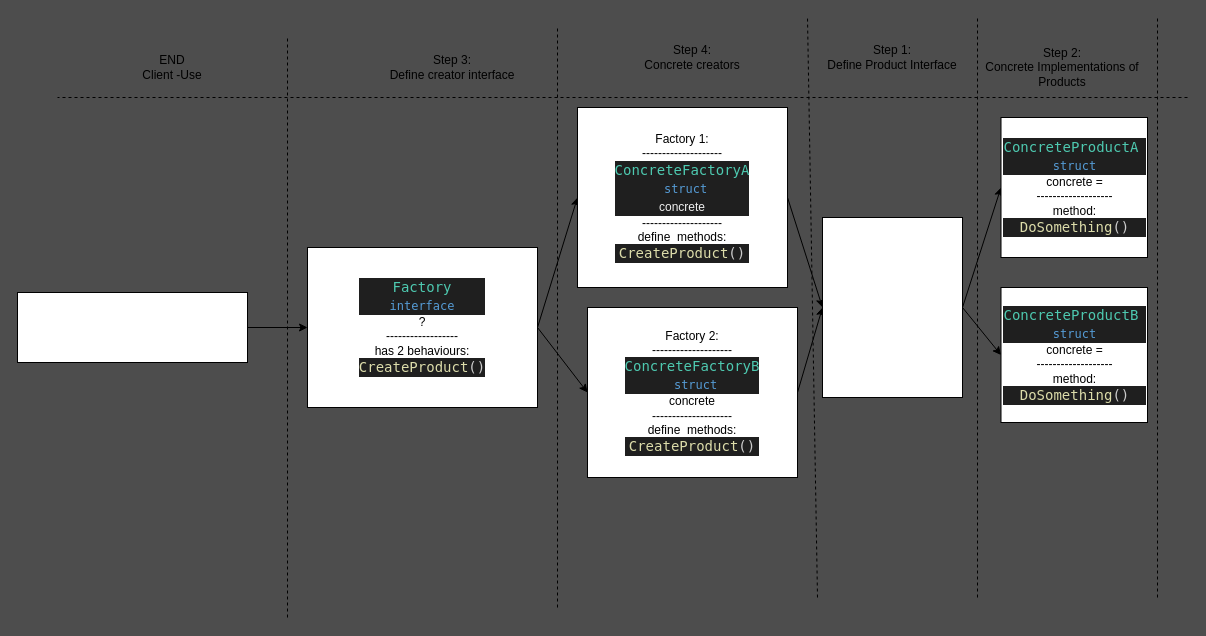
Some shapes in this 1206 by 636 pixel diagram are drawn without their labels. The centre of each missing label's shape, as x and y in pixels:
"Client" belongs at pixel 132 327.
"Product interface ? --------------------- behaviour: DoSomething ()" belongs at pixel 892 307.
